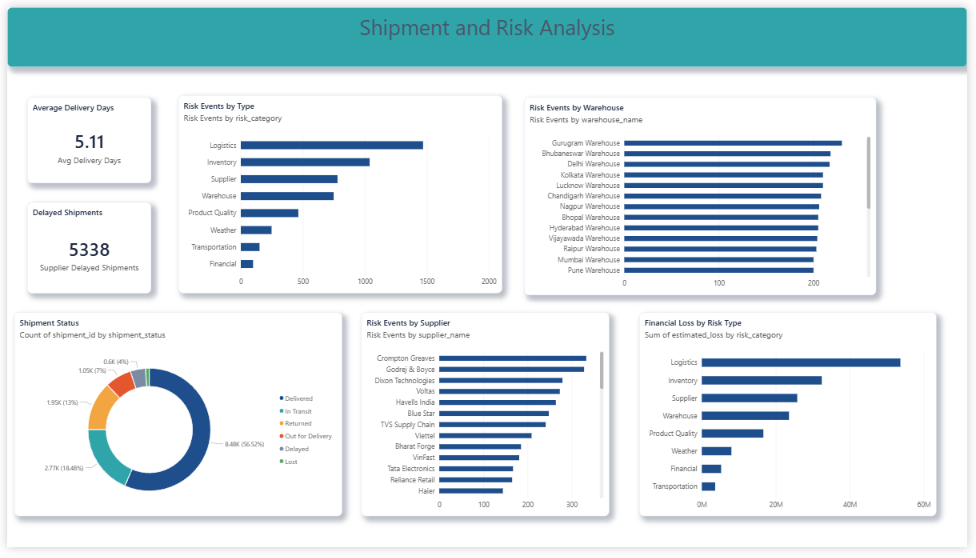

The dashboard page shown, as its layout file describes it:
{"tool":"powerbi","page":{"name":"Shipment and Risk Analysis ","canvas":[1920,1080],"ordinal":5},"visuals":[{"type":"textbox","box":[0,0,1920,120],"z":0},{"type":"donutChart","title":"Shipment Status","fields":{"Category":["FactShipments.shipment_status"],"Y":["CountNonNull(FactShipments.shipment_id)"]},"box":[14,610,656,408],"z":1000},{"type":"card","title":"Average Delivery Days","fields":{"Values":["FactShipments.Avg Delivery Days"]},"box":[40,180,248,172],"z":2000},{"type":"card","title":"Delayed Shipments","fields":{"Values":["FactShipments.Supplier Delayed Shipments"]},"box":[40,390,248,182],"z":3000},{"type":"clusteredBarChart","title":"Risk Events by Type","fields":{"Category":["FactRiskEvents.risk_category"],"Y":["FactRiskEvents.Risk Events"]},"box":[342,176,648,396],"z":4000},{"type":"clusteredBarChart","title":"Financial Loss by Risk Type","fields":{"Category":["shipping_risk.risk_category"],"Y":["Sum(shipping_risk.estimated_loss)"]},"box":[1264,610,594,408],"z":5000},{"type":"clusteredBarChart","title":"Risk Events by Warehouse","fields":{"Category":["DimWarehouse.warehouse_name"],"Y":["FactRiskEvents.Risk Events"]},"box":[1034,180,704,396],"z":6000},{"type":"clusteredBarChart","title":"Risk Events by Supplier","fields":{"Category":["DimSupplier.supplier_name"],"Y":["FactRiskEvents.Risk Events"]},"box":[708,610,496,408],"z":7000}]}

Visuals, with their boxes in screenshot pixels (x1, y1, x2, y2), scaled from the page's 1920x1080 canvas onto the 976x558 screenshot:
textbox: select_region(0, 0, 975, 62)
"Shipment Status" donutChart: select_region(7, 315, 341, 526)
"Average Delivery Days" card: select_region(20, 93, 146, 182)
"Delayed Shipments" card: select_region(20, 202, 146, 296)
"Risk Events by Type" clusteredBarChart: select_region(174, 91, 503, 296)
"Financial Loss by Risk Type" clusteredBarChart: select_region(643, 315, 944, 526)
"Risk Events by Warehouse" clusteredBarChart: select_region(526, 93, 883, 298)
"Risk Events by Supplier" clusteredBarChart: select_region(360, 315, 612, 526)
